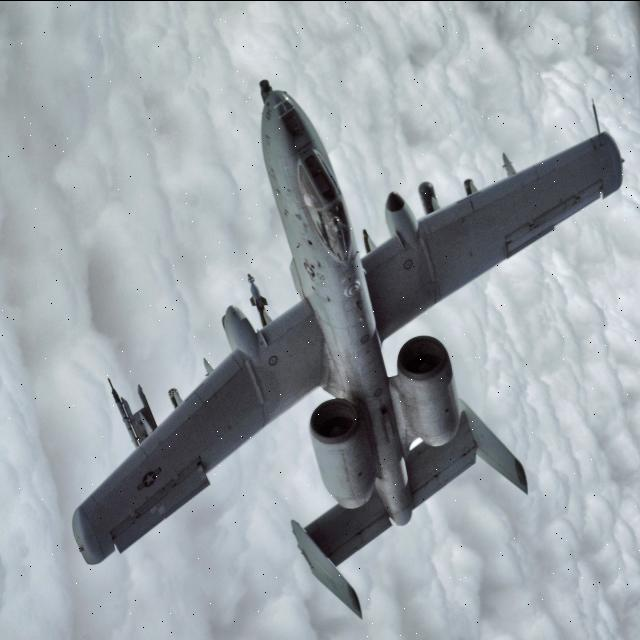A10: (39, 43, 637, 640)
